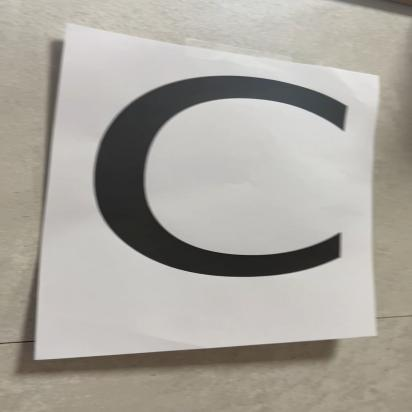seat: (73, 31, 358, 334)
